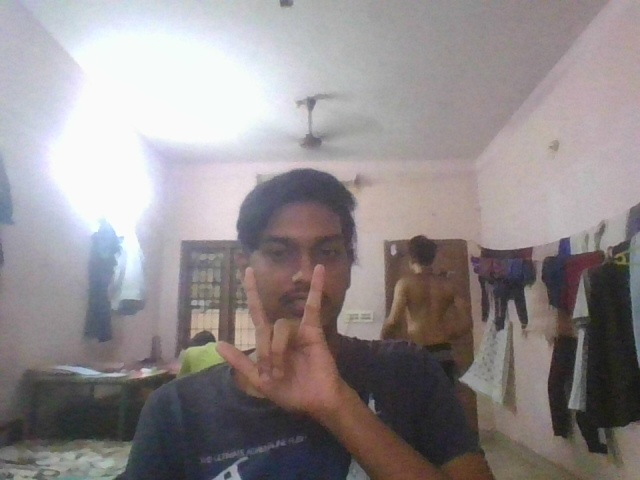iloveyou: (213, 260, 341, 415)
